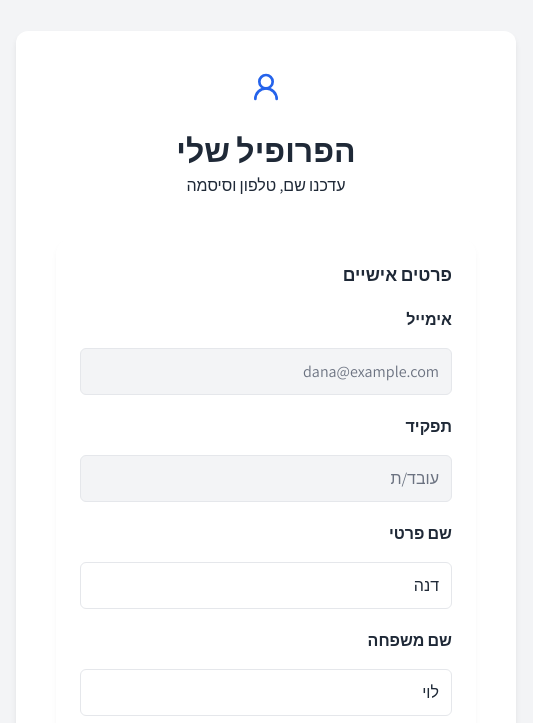
Scenario: EmployeeProfilePage › saves name and phone then refreshes the auth profile
Step 1. Replace the text in the field labelled "שם פרטי" with "דנית" → (266,586), box 80,562 -> 452,609
(page scrolled)
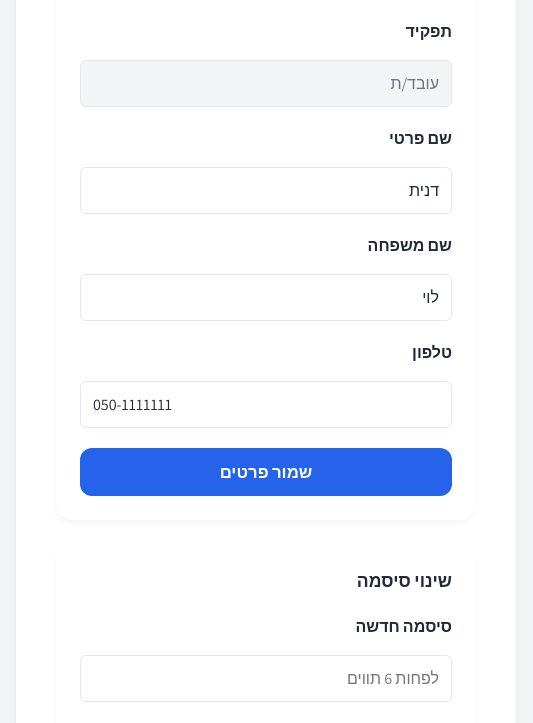
Step 2. Replace the text in the field labelled "טלפון" with "050-2222222" → (266,405), box 80,381 -> 452,428
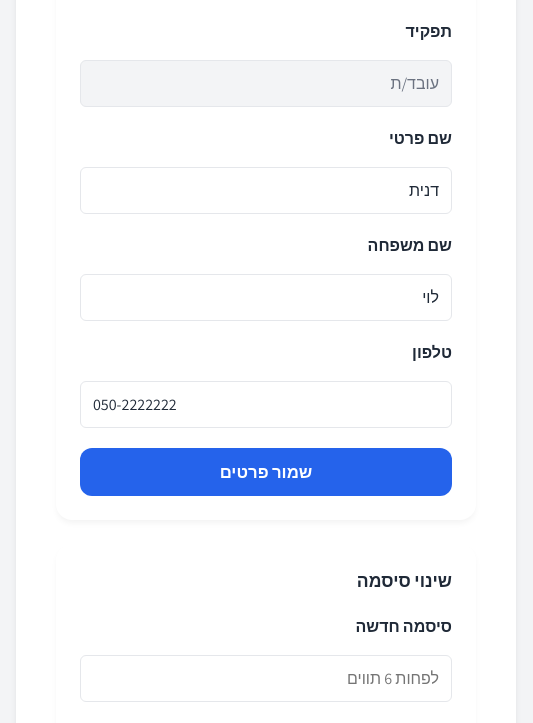
Step 3. Click the button "שמור פרטים" → (266,472), box 80,448 -> 452,496
(page scrolled)
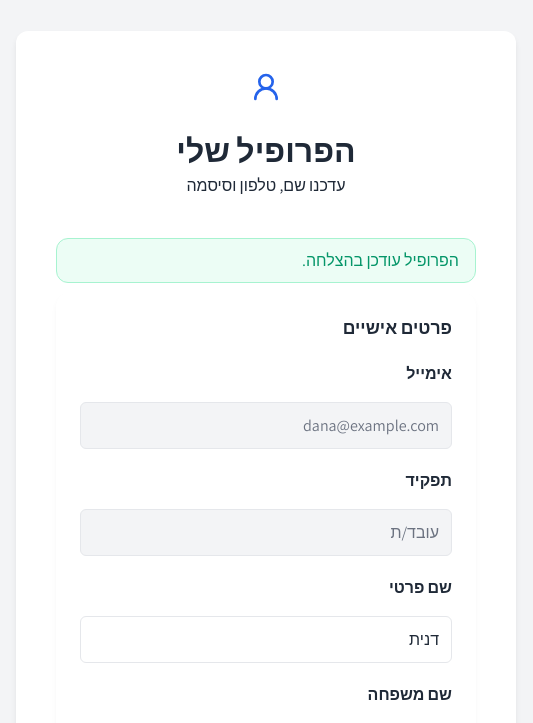
Check: the text "הפרופיל עודכן בהצלחה." is shown, box 56,238 -> 476,283
